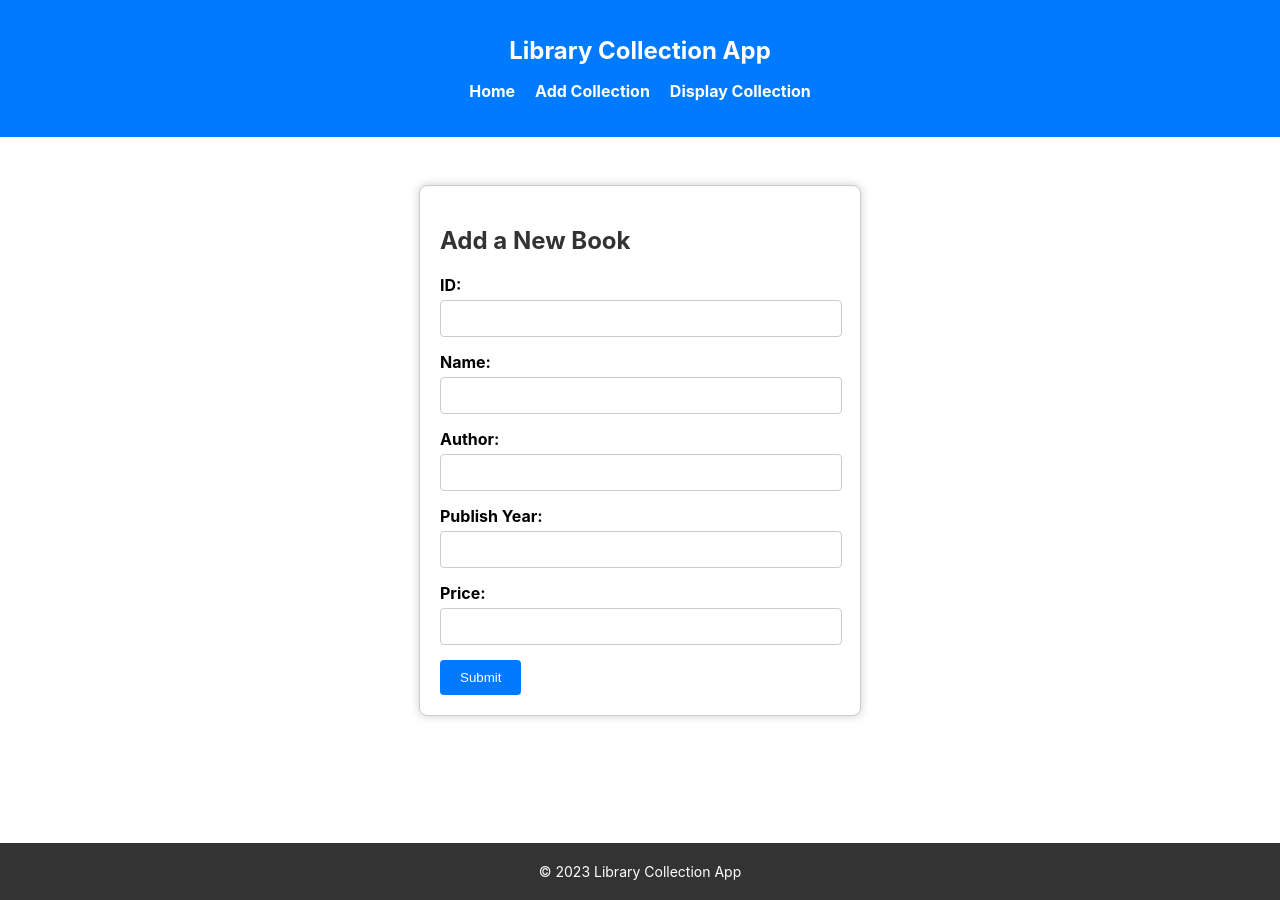
renders_Display_Collection_component_title_correctly
Click the link "Display Collection": click(740, 91) 670,81 -> 811,101
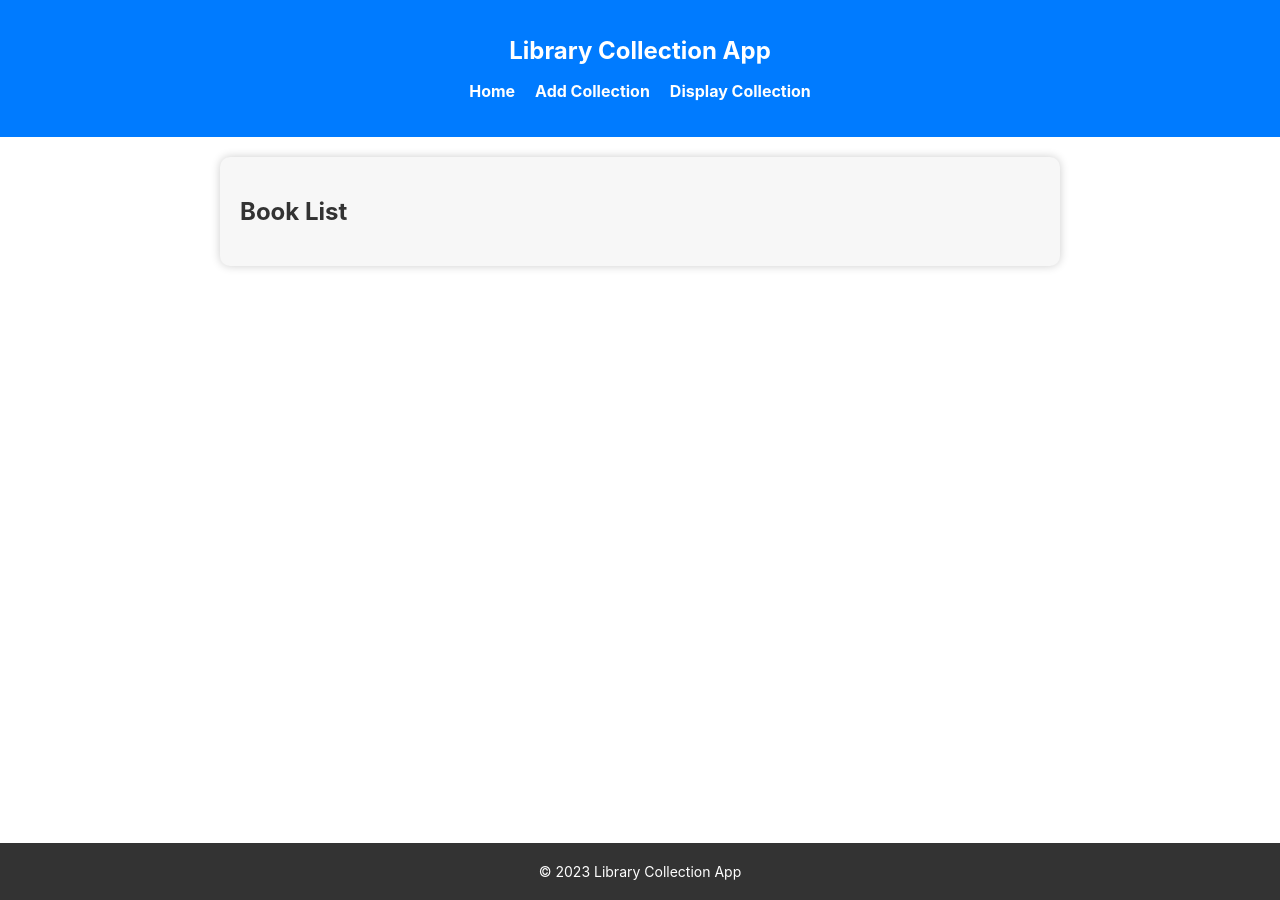
Expected: the heading "Book List" is shown, 240,197 -> 347,226
